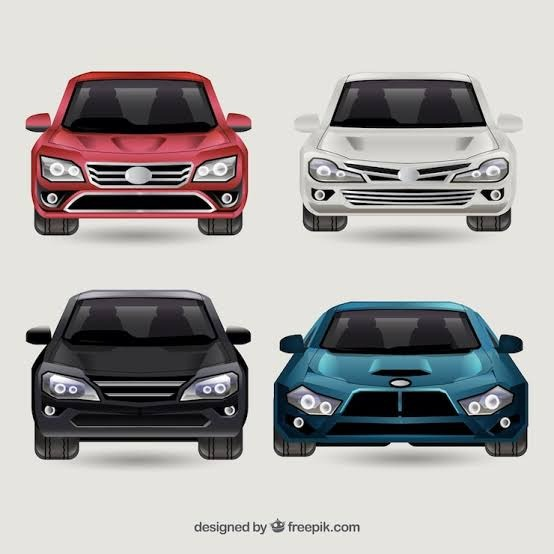car: (266, 311, 536, 453), (23, 300, 256, 457), (303, 68, 513, 238), (34, 77, 246, 227)
